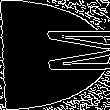M_W: (5, 32, 105, 78)
